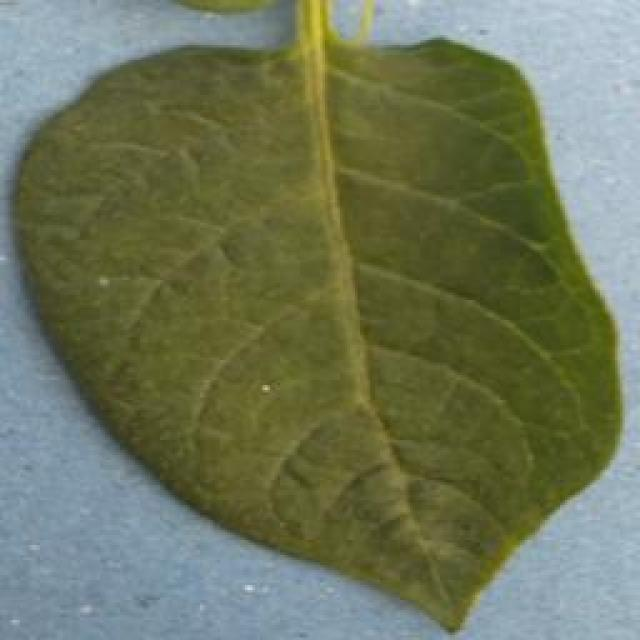Potato_Healthy: (2, 7, 632, 632)
